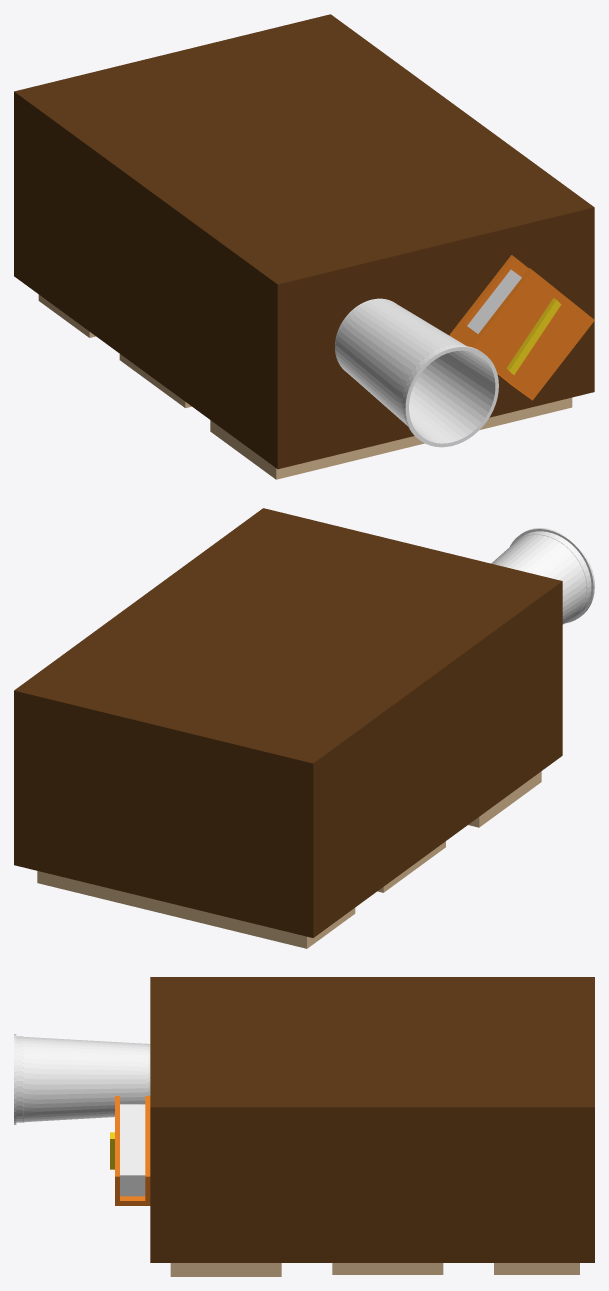
File: tinker.obj
3 renders of one model, top to bottom at view 1: azimuth 30°, elevation 25°; view 2: azimuth 150°, elevation 25°; view 3: azimuth 270°, elevation 25°, orthographic. The views are drawn at different scales.
Visible parts, largest first — view 1: group_0_6306067, group_0_16448250, group_0_16089887, group_0_14860437, group_0_16768282; view 2: group_0_6306067, group_0_14860437, group_0_16448250; view 3: group_0_6306067, group_0_16448250, group_0_14860437, group_0_16089887.
Boxes of the visible parts, x1,y1,x2,y2 form: group_0_6306067: (14,14,594,469); group_0_16448250: (335,269,521,447); group_0_16089887: (449,255,594,400); group_0_14860437: (38,294,572,479); group_0_16768282: (506,298,561,374); group_0_6306067: (14,508,562,937); group_0_14860437: (37,771,541,948); group_0_16448250: (491,528,594,624); group_0_6306067: (150,977,594,1262); group_0_16448250: (14,1034,150,1196); group_0_14860437: (170,1263,579,1276); group_0_16089887: (115,1096,150,1205).
Bounding box in the file's own units: 61 × 41 × 115.
